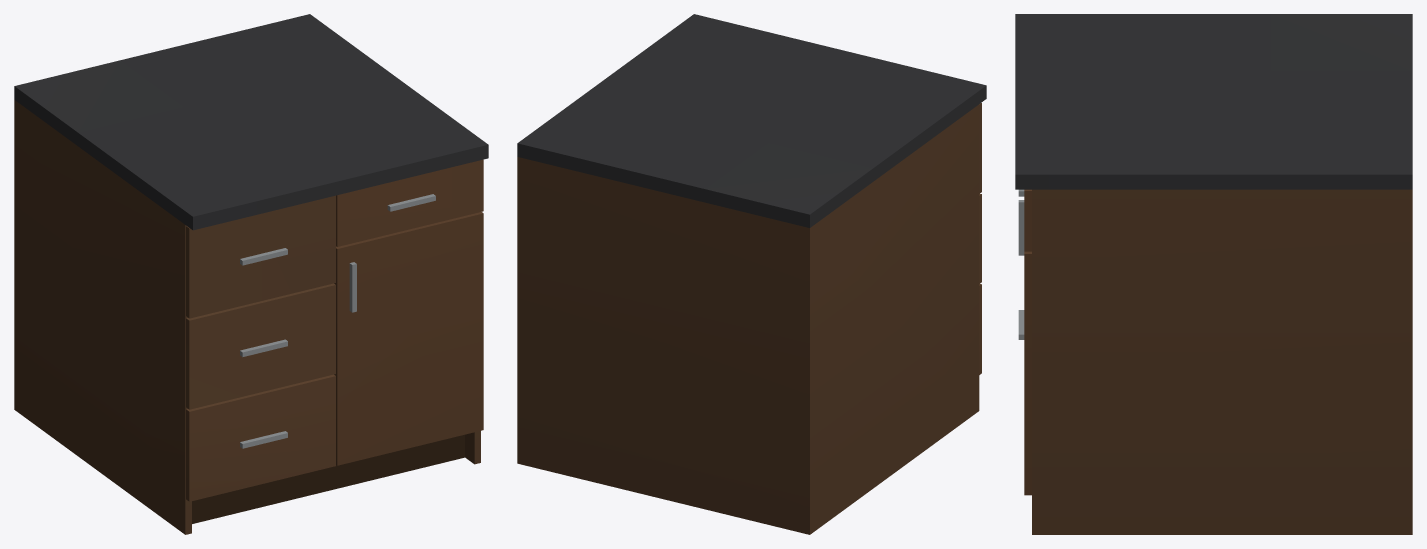
Rendered from cabinet.kitchen.walnut.glb.
3 renders of one model, left to right at view 1: azimuth 30°, elevation 25°; view 2: azimuth 150°, elevation 25°; view 3: azimuth 270°, elevation 25°, orthographic. The views are drawn at different scales.
Visible parts, largest first — view 1: cabinet_kitchen_walnut; view 2: cabinet_kitchen_walnut; view 3: cabinet_kitchen_walnut.
Part boxes in pixels (x1=…): cabinet_kitchen_walnut: x1=14, y1=14, x2=488, y2=534; cabinet_kitchen_walnut: x1=517, y1=14, x2=986, y2=534; cabinet_kitchen_walnut: x1=1015, y1=14, x2=1412, y2=534.
Size of what is drawn, in the model's own units: 0.908 by 0.95 by 0.95.
